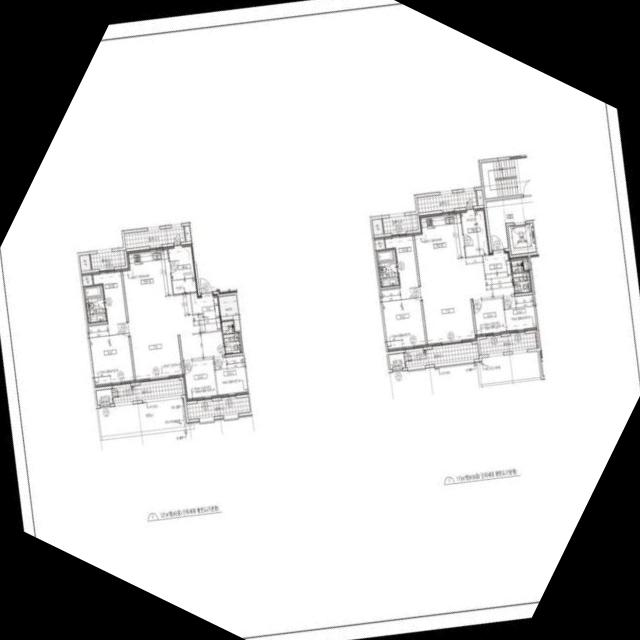background: (0, 0, 640, 640)
space_balconi: (404, 343, 479, 367), (112, 379, 183, 402), (186, 396, 250, 418), (416, 190, 477, 212), (124, 226, 184, 248), (479, 332, 536, 354), (382, 213, 418, 232), (90, 250, 125, 268)
space_bedroom: (380, 285, 426, 350), (88, 321, 133, 386), (182, 358, 218, 400), (213, 354, 247, 397), (472, 297, 506, 336), (503, 293, 536, 332)
space_dressroom: (384, 232, 418, 287), (92, 268, 126, 322)
space_elevator: (507, 222, 536, 254)
space_elevator_hall: (485, 195, 534, 249)
space_front: (197, 292, 221, 331), (483, 249, 511, 278)
space_kitchen: (414, 210, 467, 285), (122, 246, 172, 300)
space_living_room: (126, 292, 224, 381), (420, 255, 513, 345)
space_multipurpose_space: (460, 206, 490, 256), (167, 243, 197, 293)
space_other: (218, 294, 240, 330), (371, 218, 383, 234), (79, 254, 90, 270), (374, 236, 385, 249), (81, 272, 92, 285), (476, 189, 483, 204), (184, 225, 191, 240), (523, 258, 529, 269)
space_outdoor_room: (388, 352, 404, 369), (96, 388, 112, 404)
space_staircase: (480, 156, 531, 198)
space_toilet: (84, 284, 106, 322), (511, 259, 531, 292), (221, 320, 241, 353)
